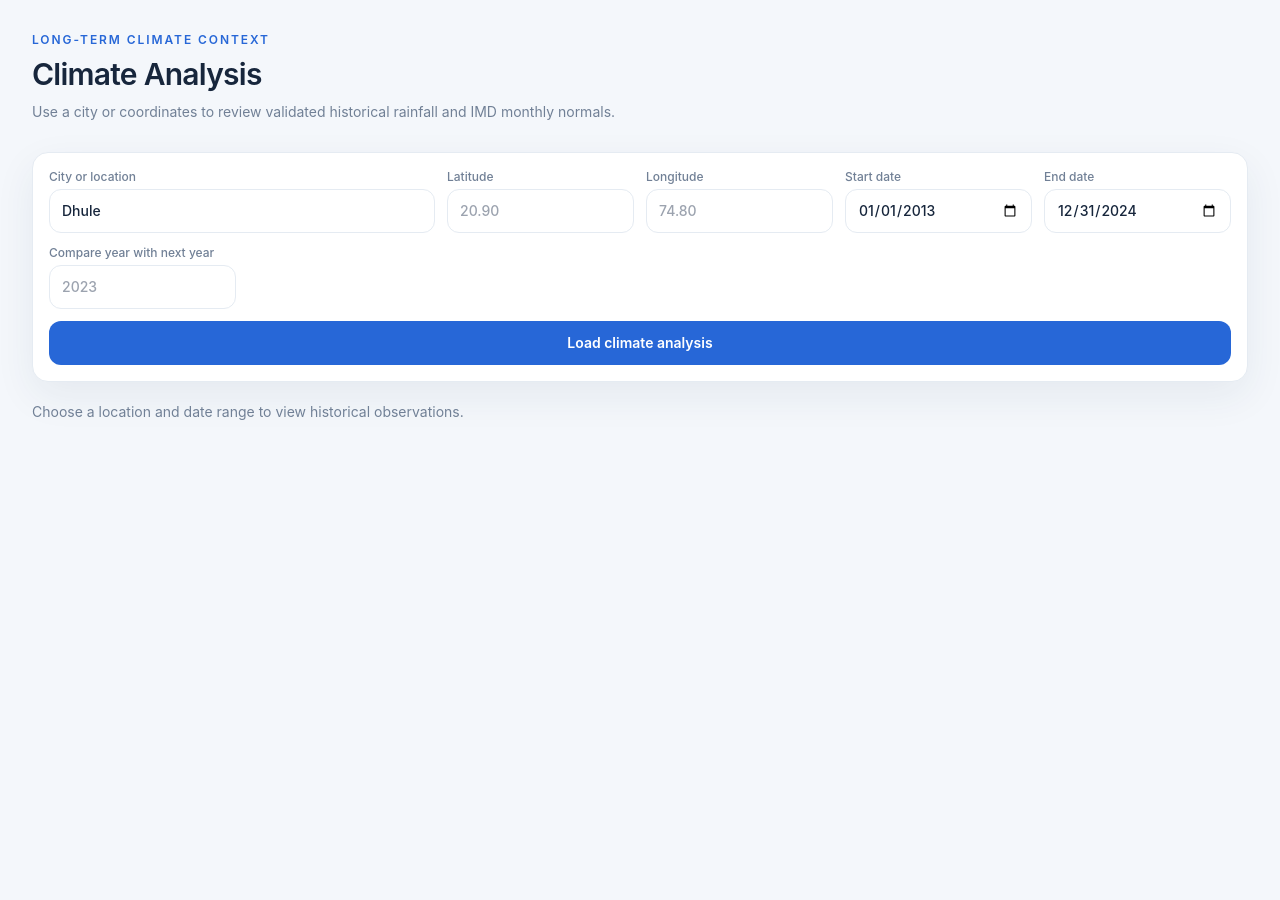
it: Climate Analysis page › shows an out-of-coverage state and still displays climatology normals
Click the button "Load climate analysis".
click(640, 343)  # box x1=49 y1=321 x2=1231 y2=365
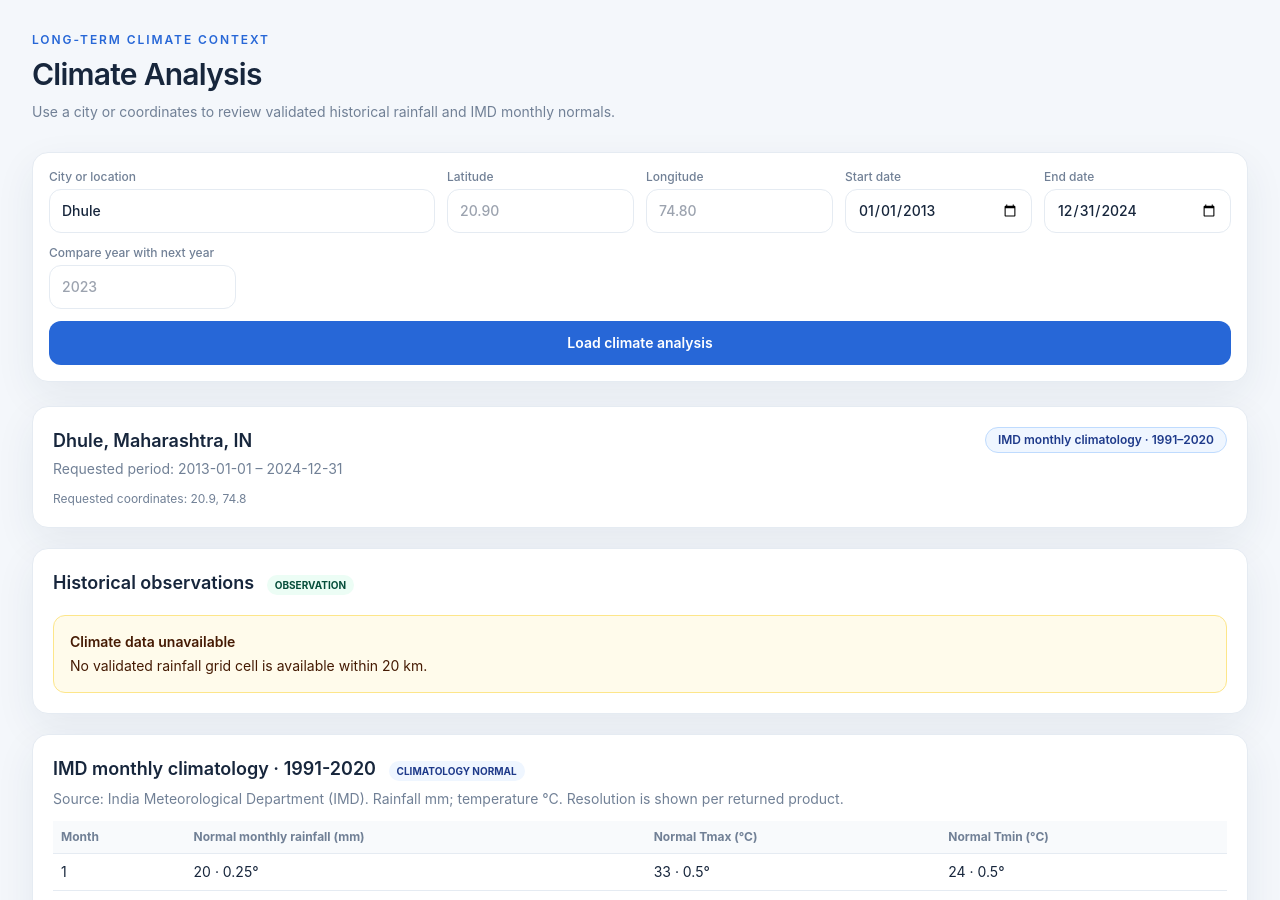
Expected: the heading "Climate data unavailable" is shown, x1=70 y1=633 x2=235 y2=650
Expected: the text "No validated rainfall grid cell is available within 20 km." is shown, x1=70 y1=657 x2=427 y2=674
Expected: the 1st text "33 · 0.5°" is shown, x1=646 y1=854 x2=940 y2=890
